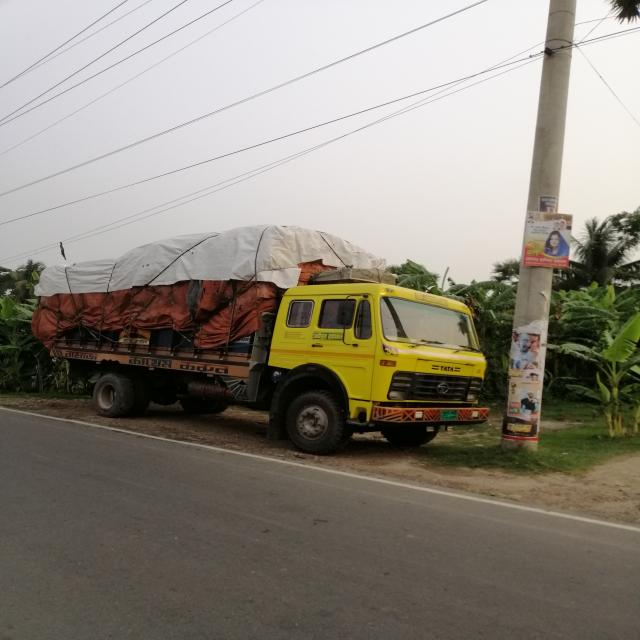Truck: (32, 207, 492, 457)
